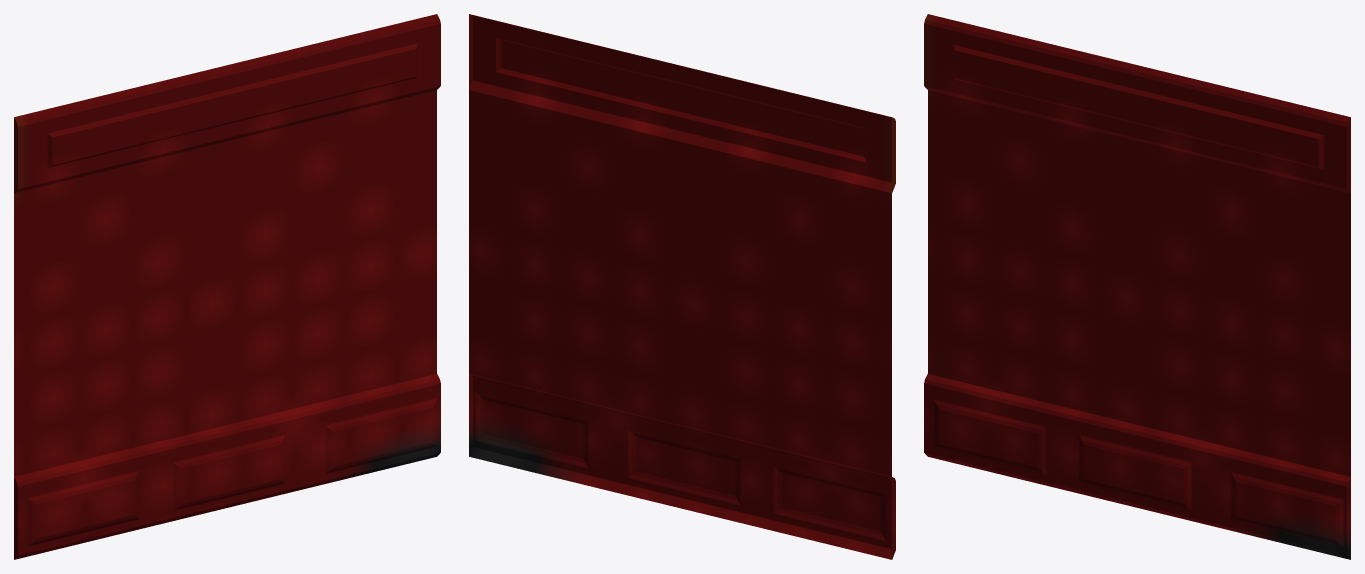
File: sci1_2.fbx
The picture shows the model from 3 angles, left to right: view 1: azimuth 30°, elevation 25°; view 2: azimuth 150°, elevation 25°; view 3: azimuth 330°, elevation 25°; orthographic projection.
Visible parts, largest first — view 1: sci2_2_mesh; view 2: sci2_2_mesh; view 3: sci2_2_mesh.
Part boxes in pixels (left/top/right/bottom): sci2_2_mesh: left=14, top=14, right=440, bottom=559; sci2_2_mesh: left=469, top=14, right=895, bottom=559; sci2_2_mesh: left=924, top=14, right=1350, bottom=559.
Size of the model in its own units: 256 by 256 by 6.
